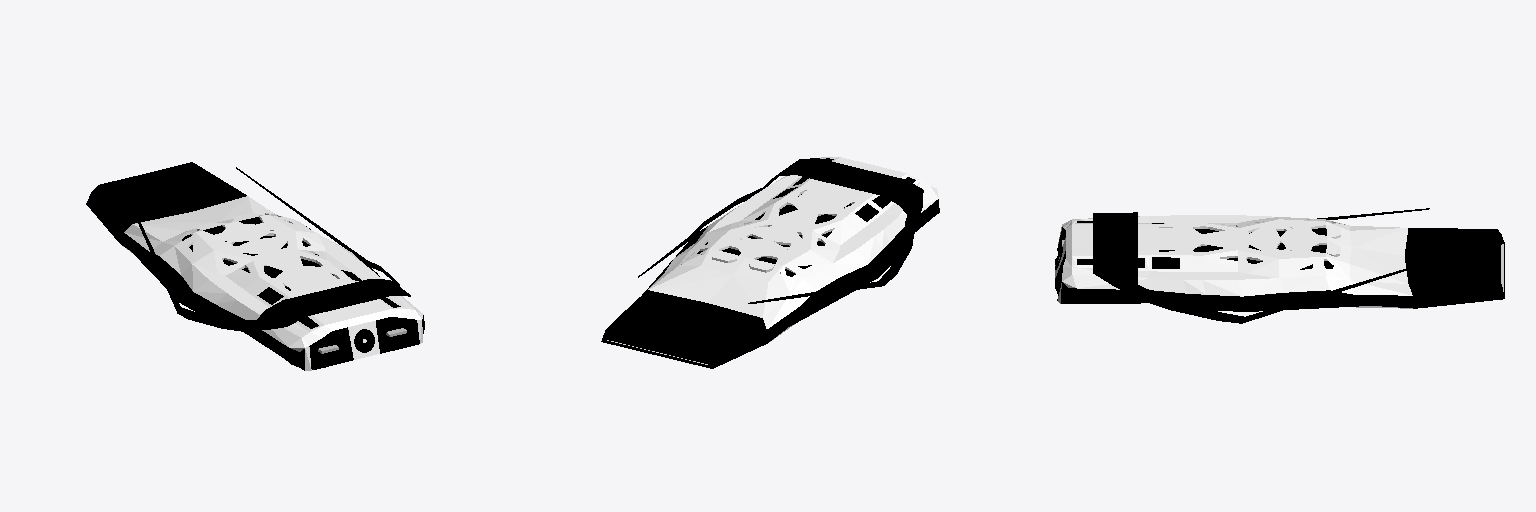
File: ranger.obj
The picture shows the model from 3 angles: view 1: azimuth 30°, elevation 25°; view 2: azimuth 150°, elevation 25°; view 3: azimuth 270°, elevation 25°; orthographic projection.
Parts seen in each view (by area): view 1: Body_main_Plane.002, Fin_Plane; view 2: Body_main_Plane.002, Fin_Plane; view 3: Body_main_Plane.002, Fin_Plane.
Part boxes in pixels (left/top/right/bottom): Body_main_Plane.002: left=86, top=162, right=424, bottom=370; Fin_Plane: left=126, top=167, right=410, bottom=331; Body_main_Plane.002: left=601, top=157, right=939, bottom=368; Fin_Plane: left=638, top=158, right=923, bottom=303; Body_main_Plane.002: left=1055, top=215, right=1504, bottom=311; Fin_Plane: left=1093, top=208, right=1429, bottom=323.
Bounding box in the file's own units: 2.4 × 0.494 × 4.78.